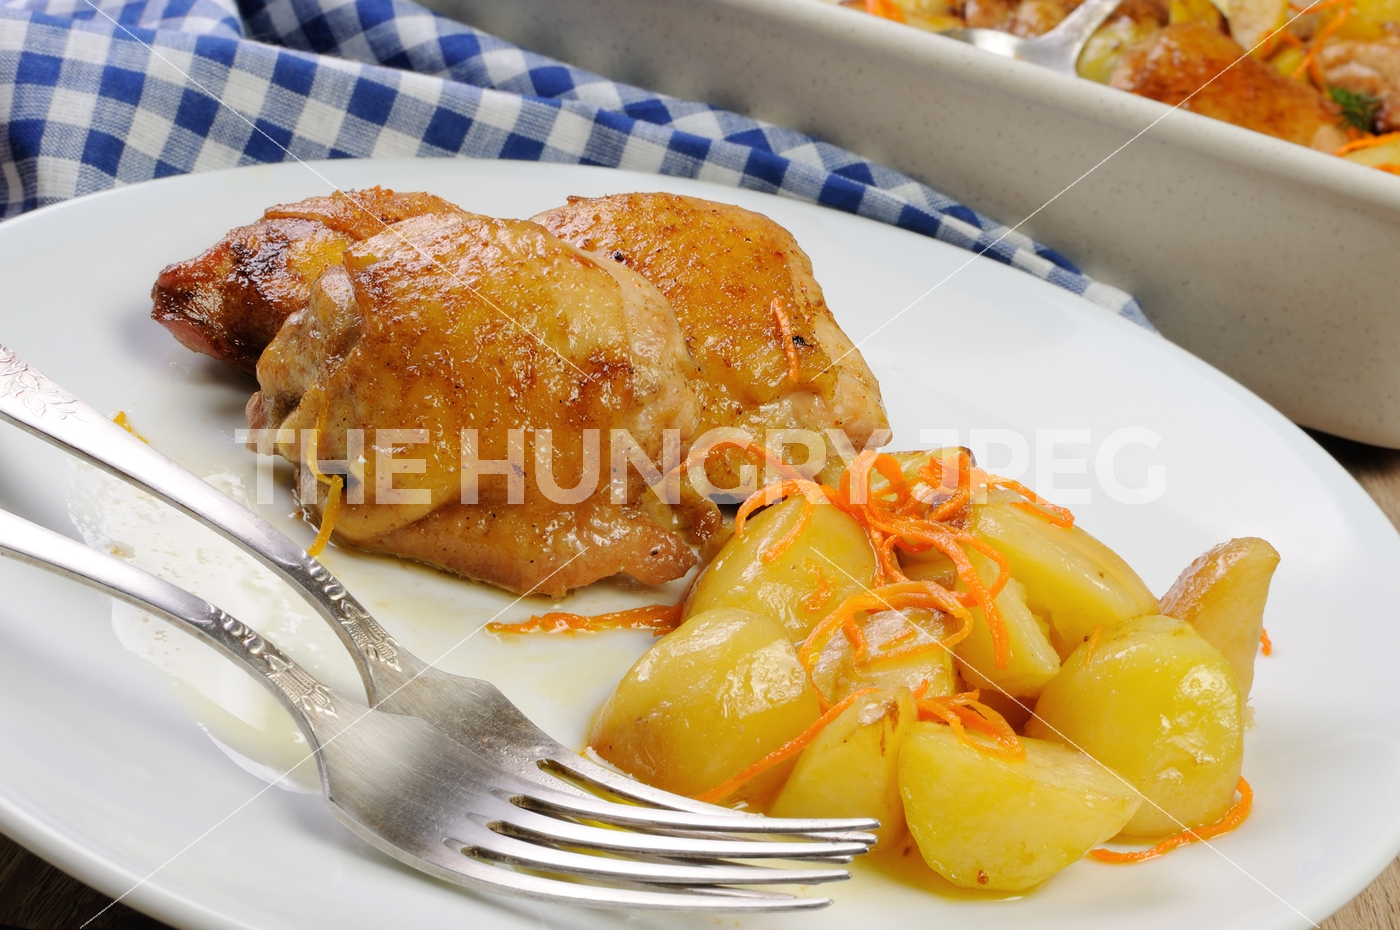boiled potatoes: (630, 490, 1261, 872)
